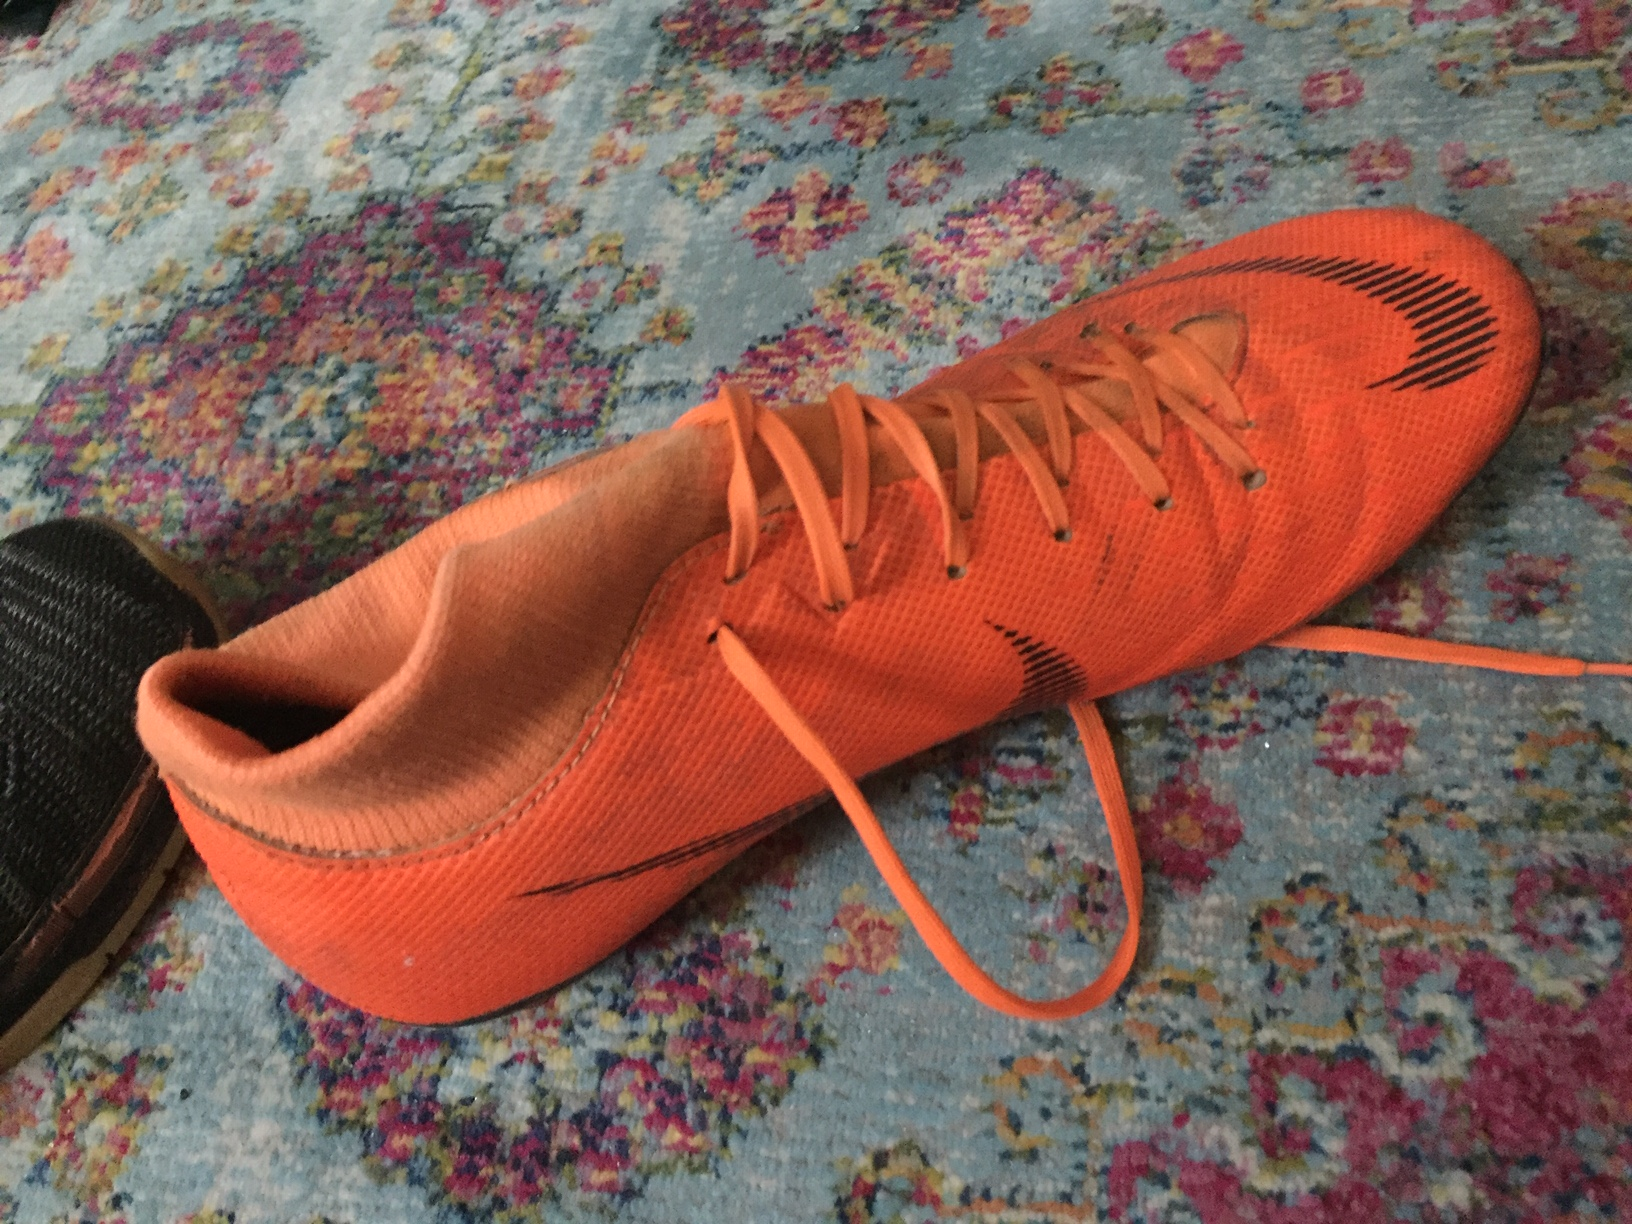car: (132, 210, 1548, 1035)
